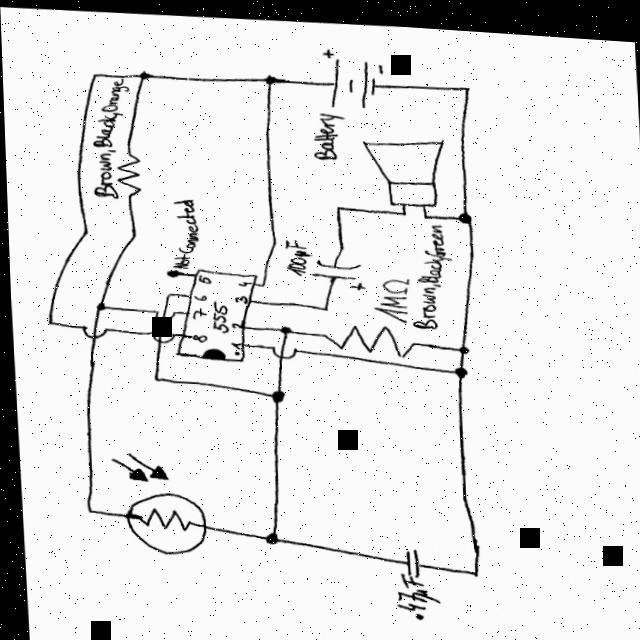capacitor: (308, 251, 365, 285), (398, 541, 420, 573)
crossover: (267, 338, 296, 355), (78, 322, 105, 338), (148, 326, 174, 341), (150, 305, 175, 320)
junction: (255, 525, 278, 542), (448, 358, 466, 373), (451, 336, 469, 351), (455, 204, 472, 218), (266, 384, 283, 398), (461, 559, 478, 572), (135, 66, 150, 78), (262, 70, 277, 81), (275, 320, 290, 331), (79, 503, 93, 514), (90, 299, 104, 309), (460, 77, 471, 86), (331, 198, 341, 206), (41, 318, 52, 325), (318, 300, 328, 307), (161, 288, 170, 295), (90, 69, 98, 76), (267, 236, 276, 242), (419, 207, 427, 213), (149, 373, 157, 379), (398, 204, 406, 210)
resistor: (105, 448, 205, 553), (319, 317, 419, 354), (113, 149, 144, 196)
source: (322, 43, 387, 106)
terminal: (163, 266, 178, 274)
text: (87, 75, 133, 197), (404, 216, 455, 324), (166, 194, 198, 266), (366, 269, 408, 316), (390, 564, 436, 606), (310, 105, 347, 156), (281, 233, 310, 273), (207, 297, 229, 329), (187, 304, 206, 315), (227, 337, 239, 353), (188, 330, 205, 339), (234, 274, 251, 283), (230, 290, 245, 300), (227, 315, 239, 326), (196, 271, 210, 280), (189, 290, 204, 298)
